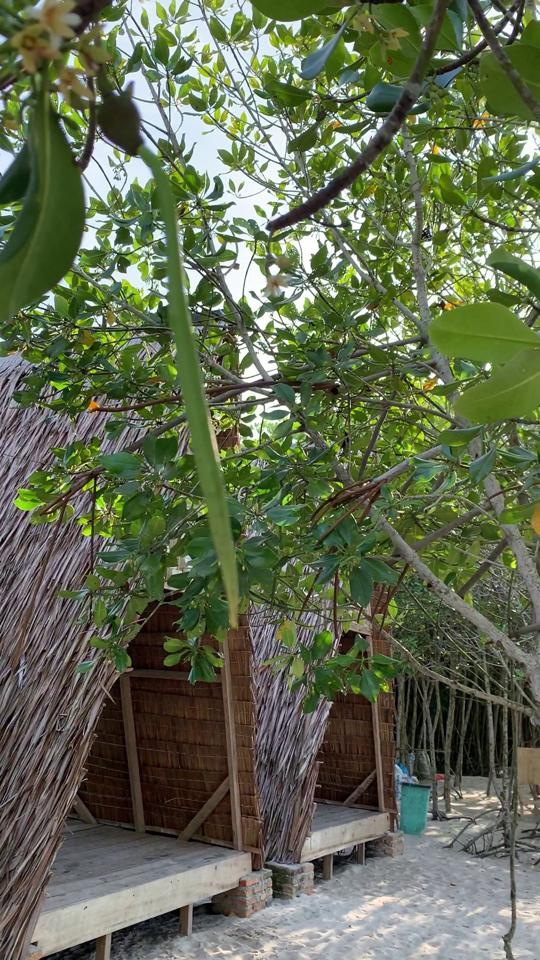mentah: (83, 75, 263, 636)
